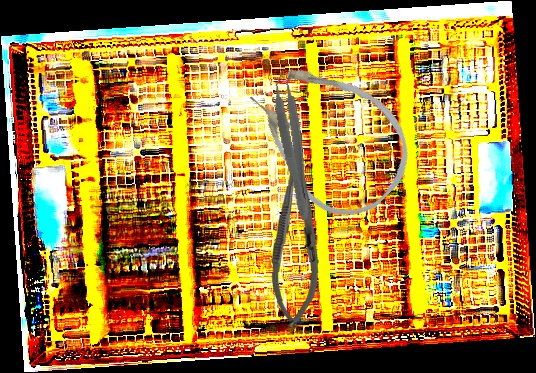Cannula: (227, 33, 432, 237)
Needle Holder: (268, 132, 325, 327)
Tissue Forceps: (269, 67, 320, 222)
